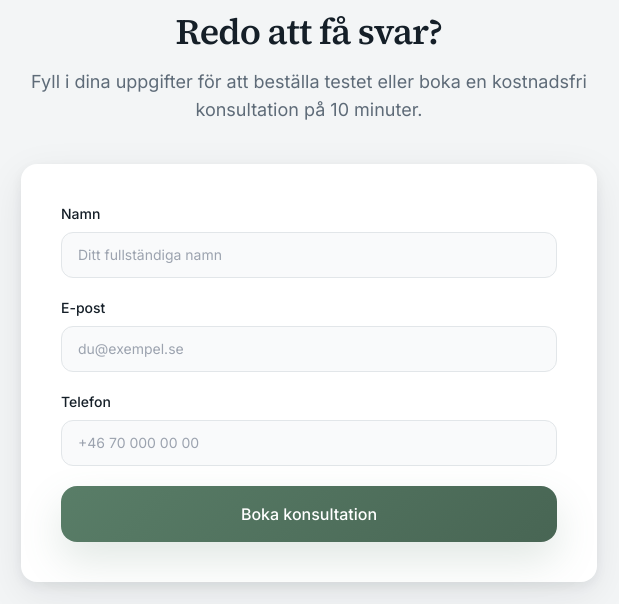
Test: LeadCaptureSection › shows a clear error when no referral can be routed
Type "Anna Holm" into the field labelled "Namn" at (309, 255), box [61,232,557,278]
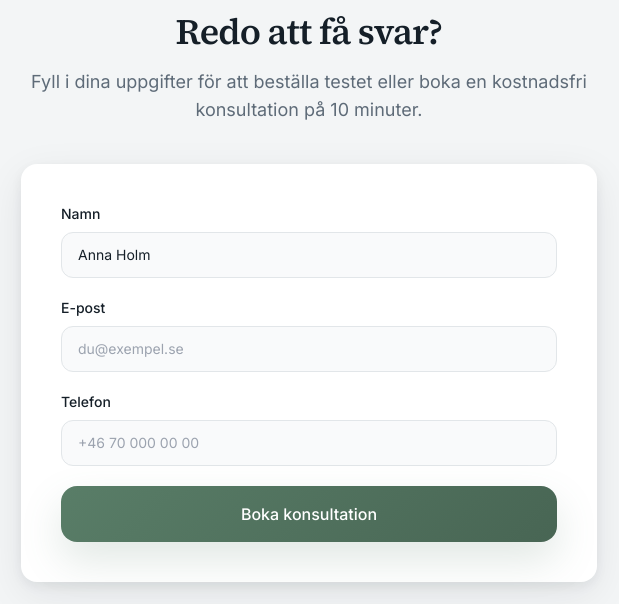
Type "anna@example.com" into the field labelled "E-post" at (309, 349), box [61,326,557,372]
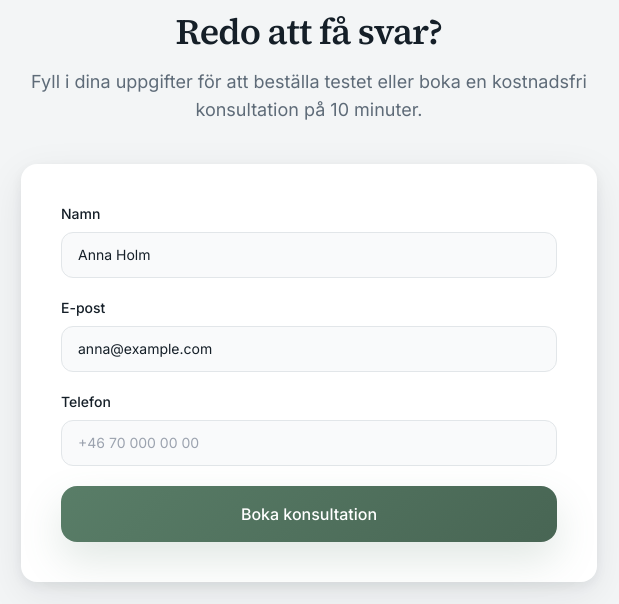
Click the button "Boka konsultation" at (309, 514), box [61,486,557,542]
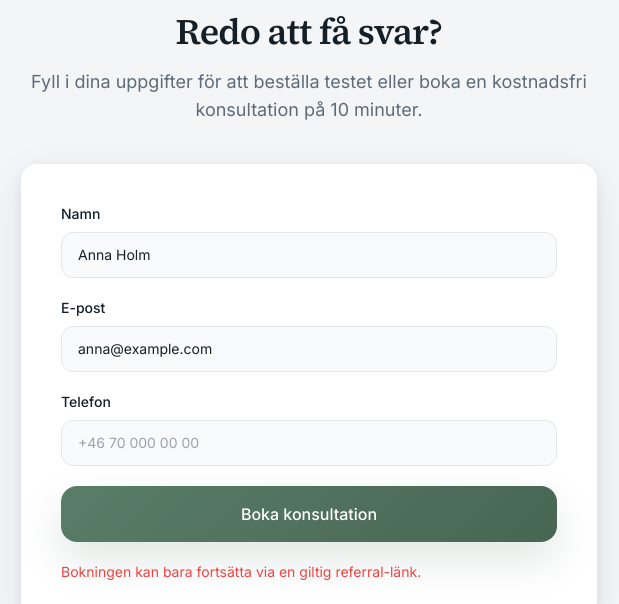
Result: the text "Bokningen kan bara fortsätta via en giltig referral-länk." is shown at [61,563,421,580]
